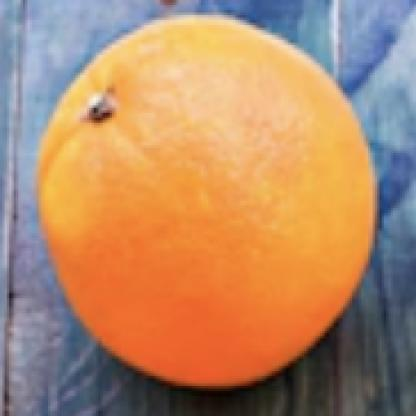fresh: (41, 13, 377, 381)
